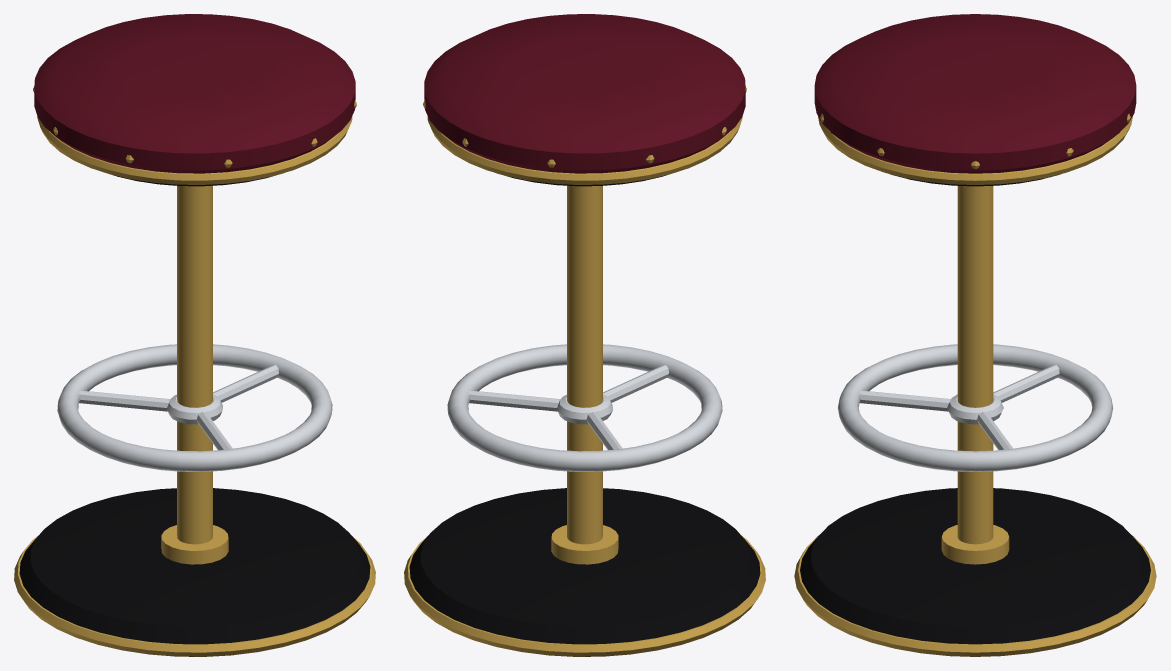
File: bar_stool.glb
3 renders of one model, left to right at view 1: azimuth 30°, elevation 25°; view 2: azimuth 150°, elevation 25°; view 3: azimuth 270°, elevation 25°, orthographic.
Visible parts, largest first — view 1: bar_stool; view 2: bar_stool; view 3: bar_stool.
Part boxes in pixels (<box>): bar_stool: <box>14,14,375,656</box>; bar_stool: <box>404,14,765,656</box>; bar_stool: <box>794,14,1156,656</box>.
Bounding box in the file's own units: 0.484 × 0.76 × 0.484.
